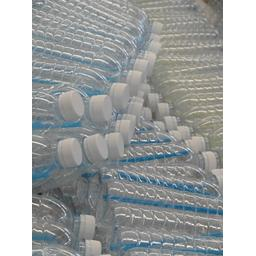plastic: (99, 163, 232, 217), (103, 203, 228, 239), (113, 225, 225, 256), (23, 134, 79, 180), (25, 89, 84, 123)
